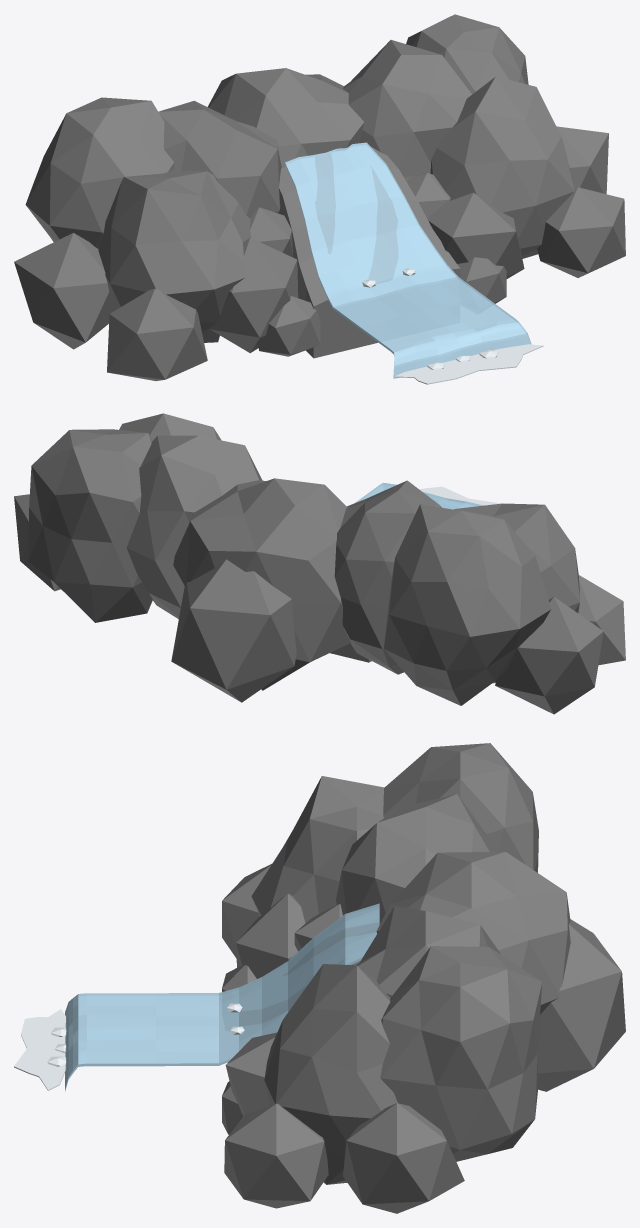
Rendered from canal_falls.fbx.
The picture shows the model from 3 angles, top to bottom: view 1: azimuth 30°, elevation 25°; view 2: azimuth 150°, elevation 25°; view 3: azimuth 270°, elevation 25°; orthographic projection. The views are drawn at different scales.
Parts seen in each view (by area): view 1: Fall_Rock, Fall_Water, Fall_Foam; view 2: Fall_Rock, Fall_Water, Fall_Foam; view 3: Fall_Rock, Fall_Water, Fall_Foam.
Boxes of the visible parts, x1,y1,x2,y2 form: Fall_Rock: [14, 14, 625, 380]; Fall_Water: [285, 142, 531, 379]; Fall_Foam: [362, 268, 543, 384]; Fall_Rock: [14, 413, 625, 714]; Fall_Water: [354, 482, 483, 509]; Fall_Foam: [419, 486, 499, 505]; Fall_Rock: [222, 743, 625, 1213]; Fall_Water: [65, 903, 379, 1091]; Fall_Foam: [14, 1003, 244, 1090].
Bounding box in the file's own units: 26.78 × 9.17 × 21.31.
